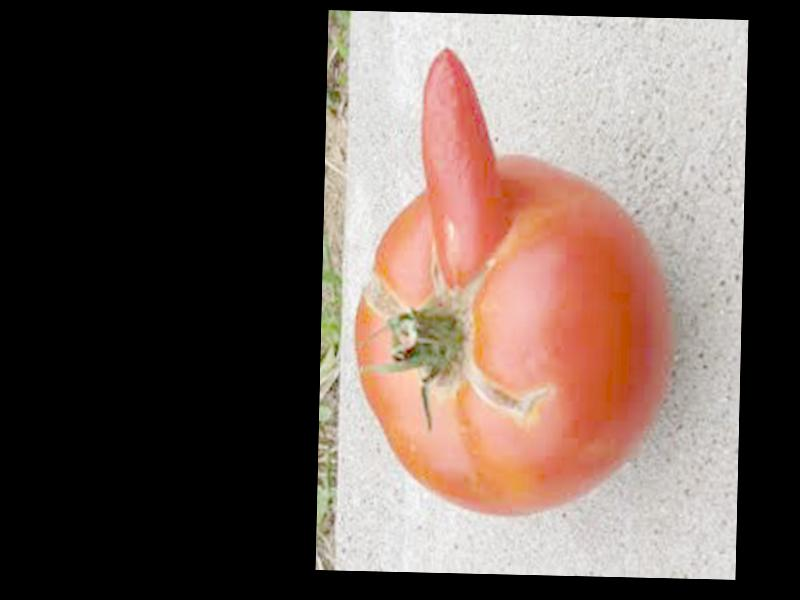Tomato: (349, 151, 666, 523)
